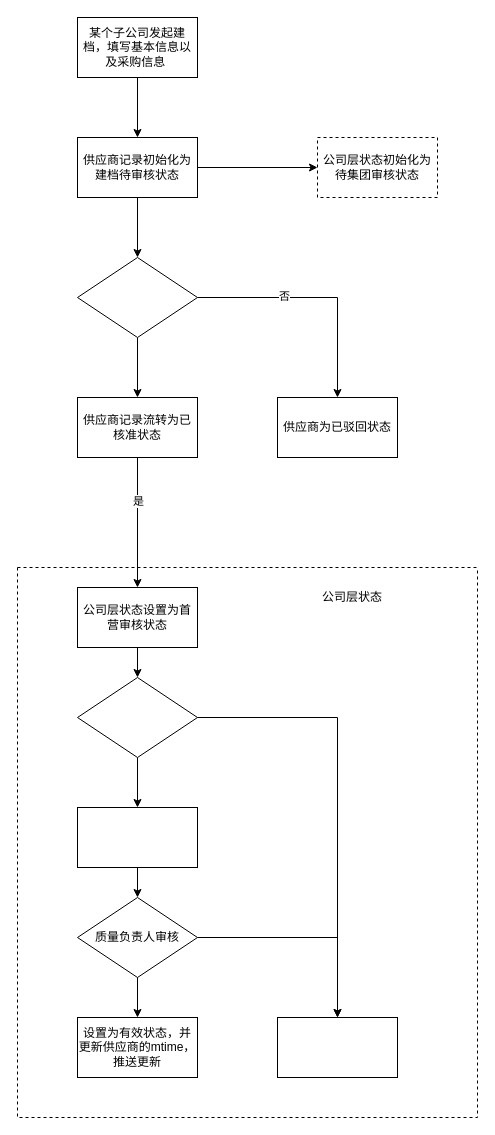
Some shapes in this 495 by 1135 pixel diagram are drawn without their labels. The centre of each missing label's shape, as x and y in pixels:
删除此公司的采购信息，变成未引入状态: pixel 337 1047
子公司质管部审核: pixel 137 717
质量负责人审核状态: pixel 137 837
集团审核: pixel 137 297
